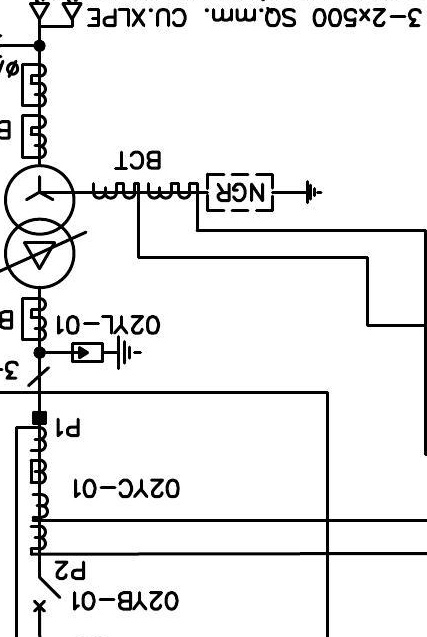11522_tx_dyn1: (3, 163, 76, 290)
115_breaker: (32, 576, 62, 613)
115_la: (70, 334, 143, 371)
NGR_future: (205, 172, 323, 213)
terminator_double: (29, 2, 83, 29)
